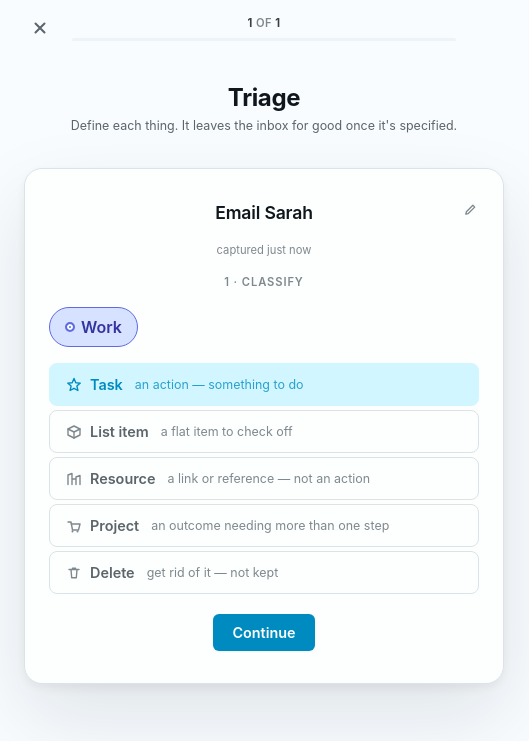
Scenario: TriagePage › Back from Spec returns to Classify so the type can be changed
Click the button "Continue".
click(264, 632)  # box [213, 614, 315, 651]
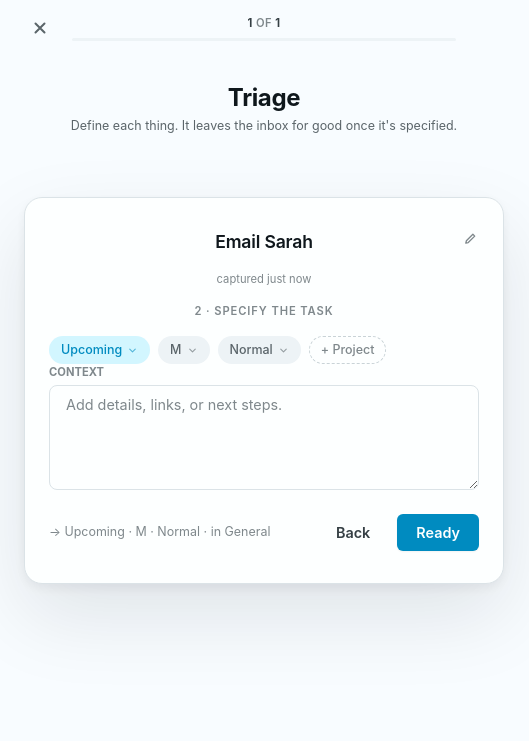
Result: the text "2 · Specify the task" is shown at [194, 305, 334, 319]
// Back returns to the classify step — type/lens chooser reappears.
Click the button "Back".
click(353, 532)  # box [317, 514, 389, 551]
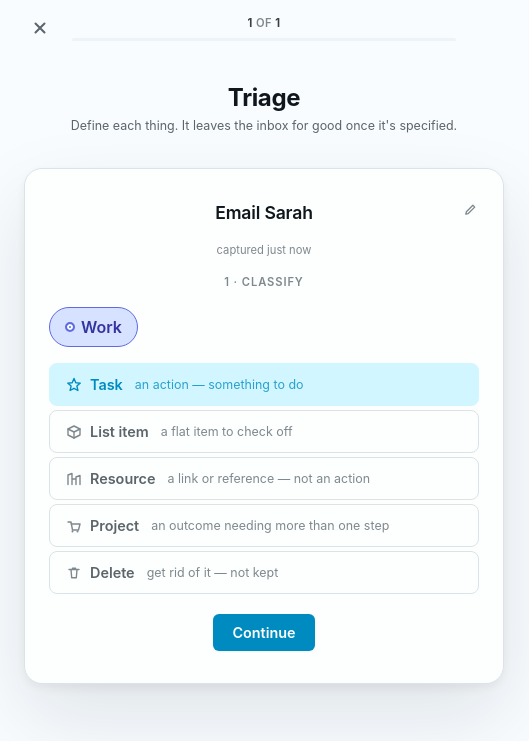
Result: the text "1 · Classify" is shown at [224, 275, 304, 289]
Result: the button "Project an outcome needing more than one step" is shown at [49, 504, 479, 547]
